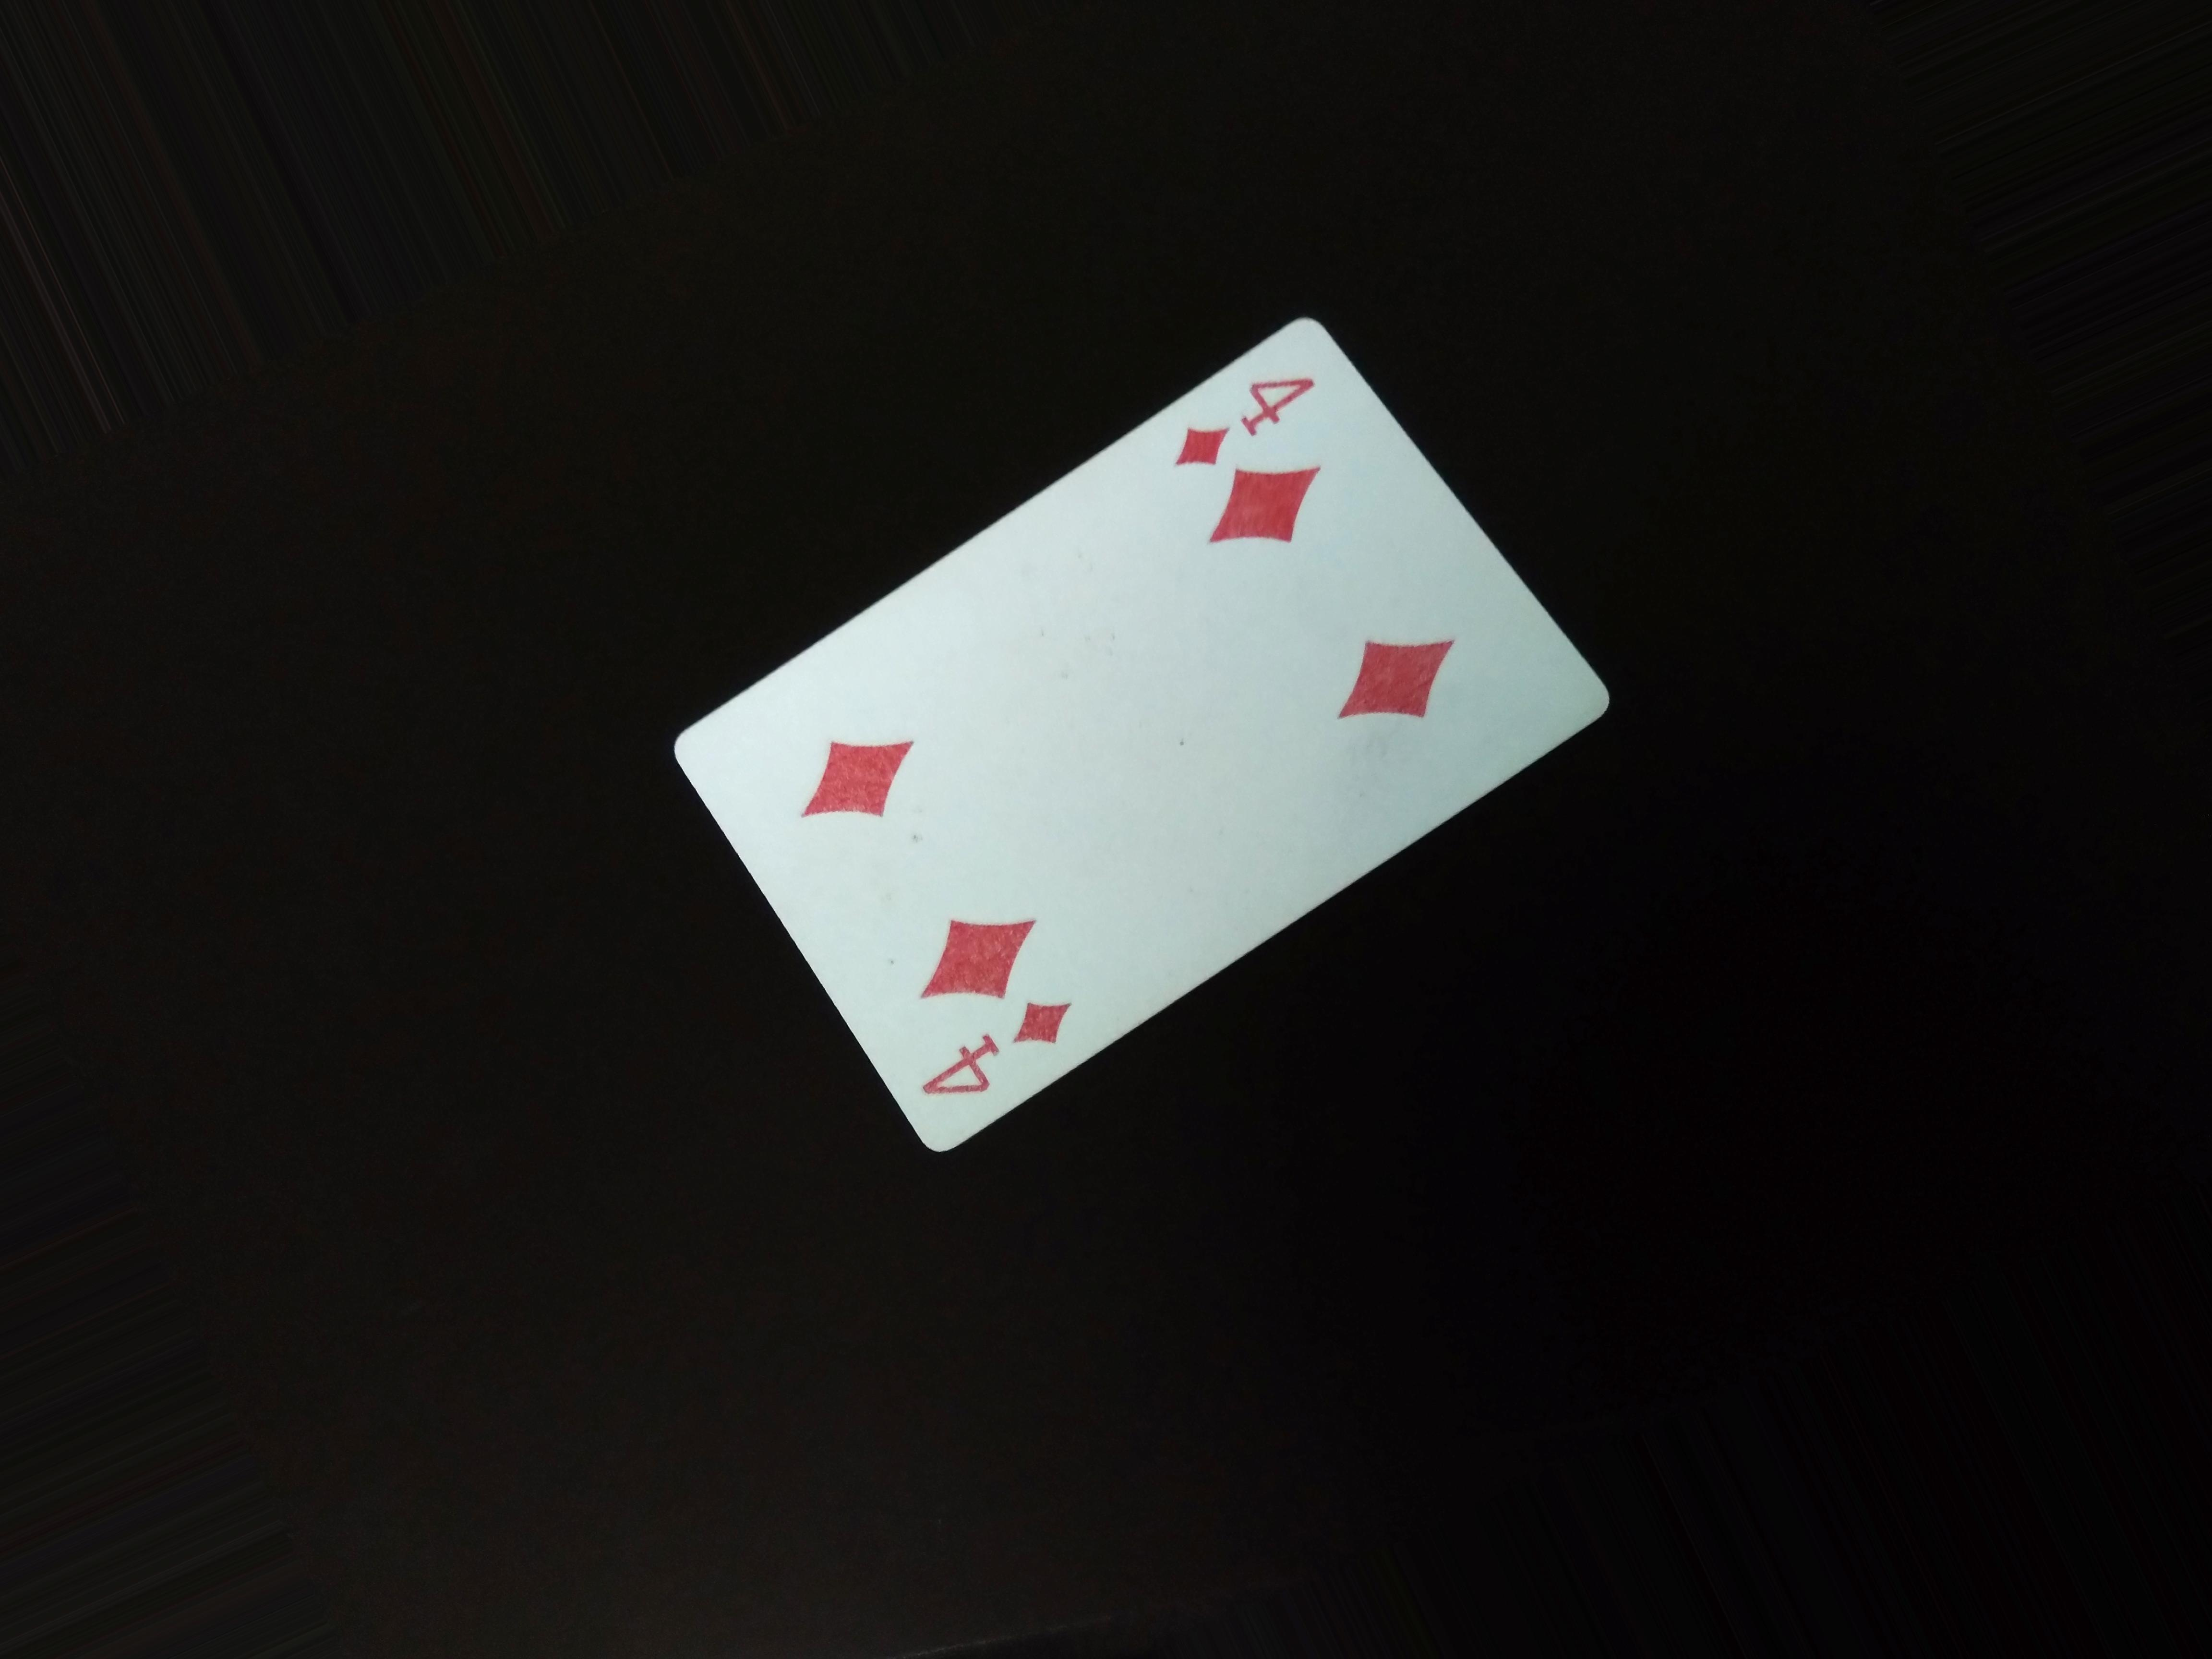4D: (1160, 355, 1331, 472)
